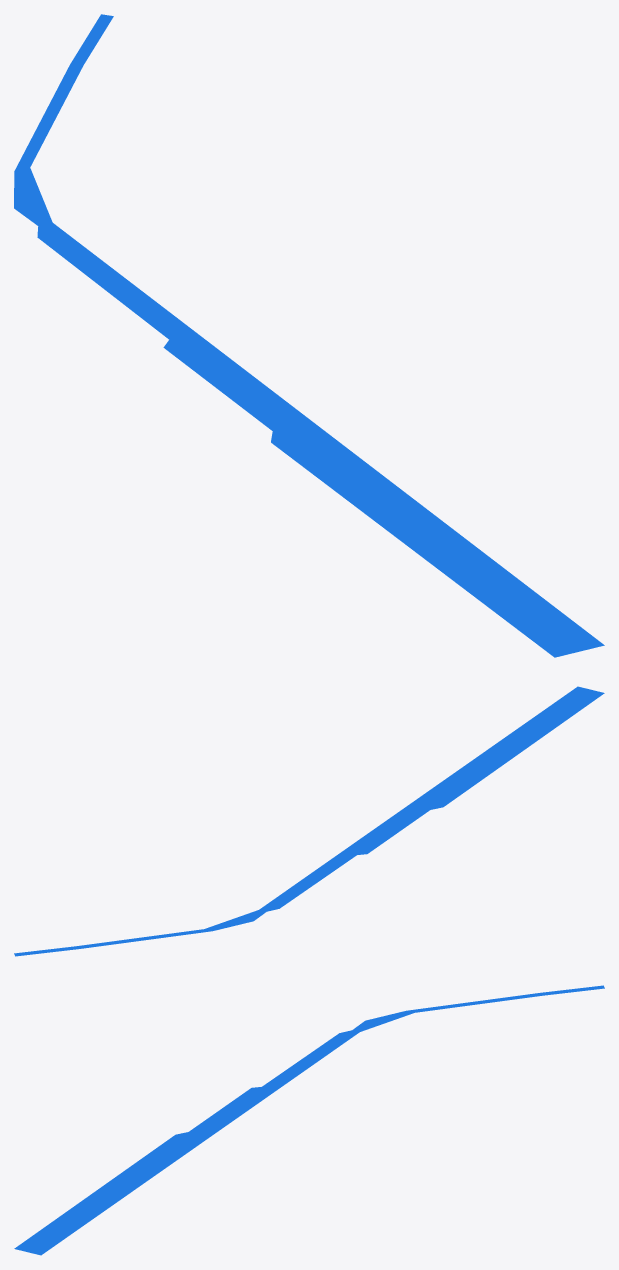
File: vector4.glb
3 views of the same model, one above another, from view 1: azimuth 30°, elevation 25°; view 2: azimuth 150°, elevation 25°; view 3: azimuth 330°, elevation 25° (orthographic). The views are drawn at different scales.
Visible parts, largest first — view 1: Curve; view 2: Curve; view 3: Curve.
Boxes of the visible parts, left/top/right/bottom form: Curve: left=14, top=14, right=604, bottom=657; Curve: left=14, top=686, right=604, bottom=956; Curve: left=14, top=985, right=604, bottom=1255.
Size of the model in its own units: 0.1936 by 0 by 0.793.
